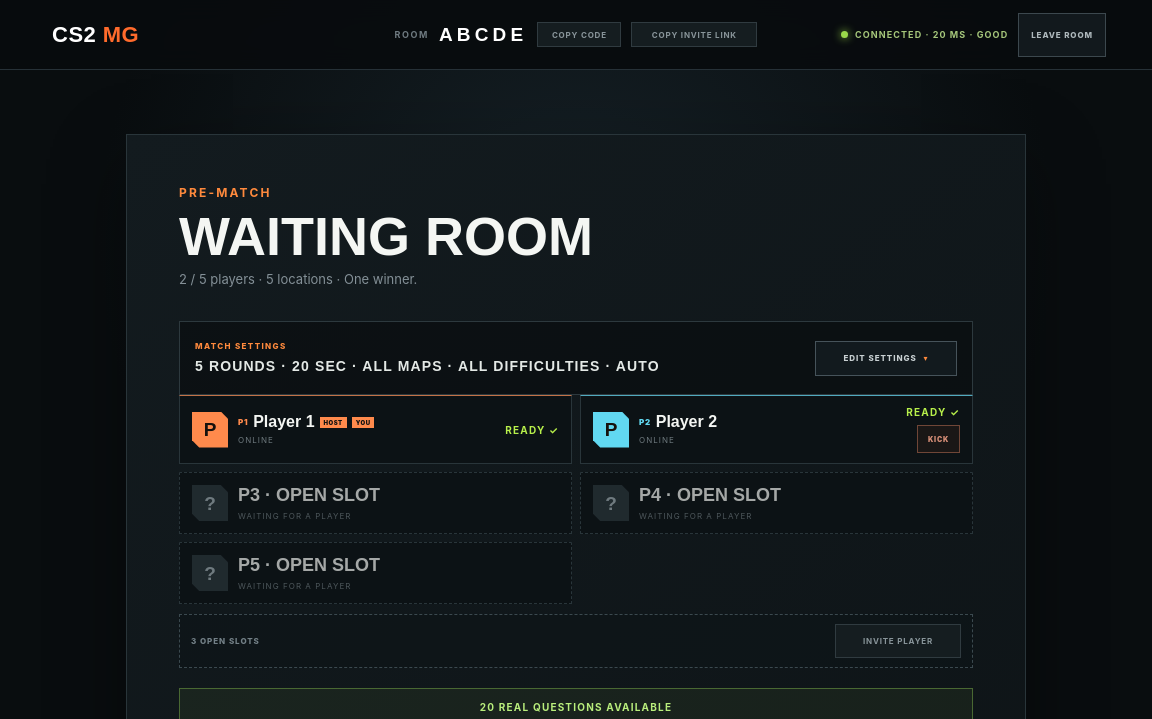
it: RoomPage multiplayer lobby wiring › recovers from an authoritative leave failure without navigating or staying stuck
The image size is (1152, 719).
Click the button "LEAVE ROOM". click: (1062,34)
box: top-left (1018, 12), bottom-right (1106, 56)
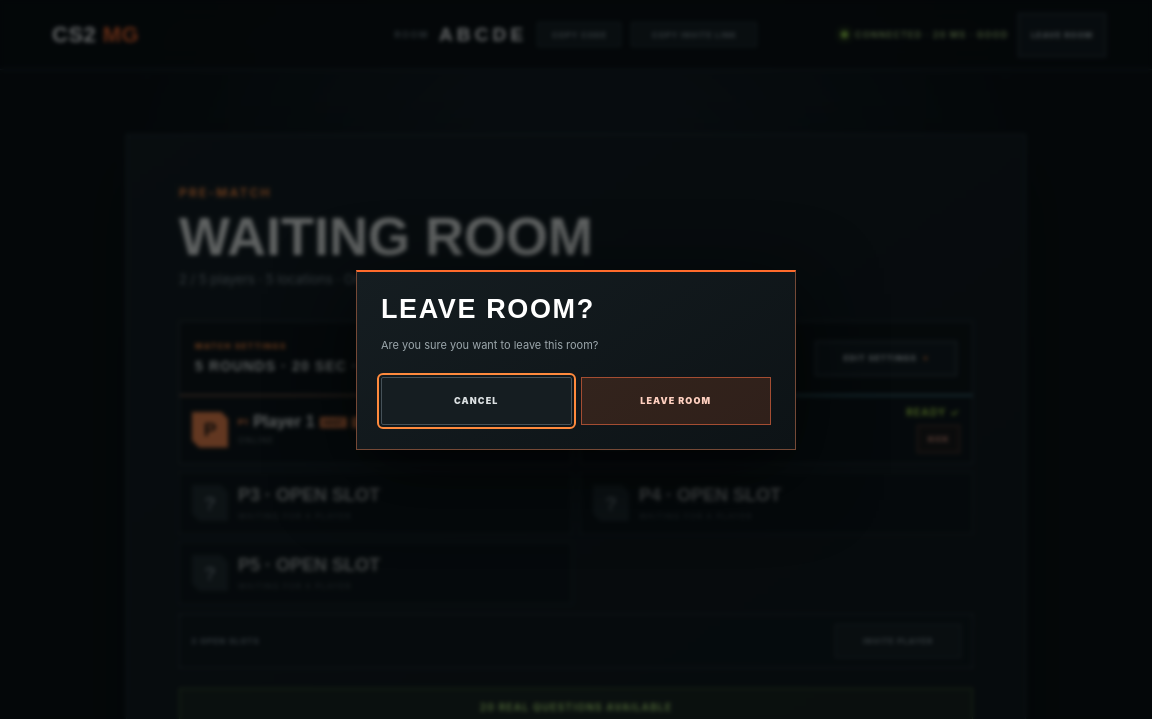
Click the button "LEAVE ROOM". click: (676,401)
box: top-left (580, 377), bottom-right (771, 425)
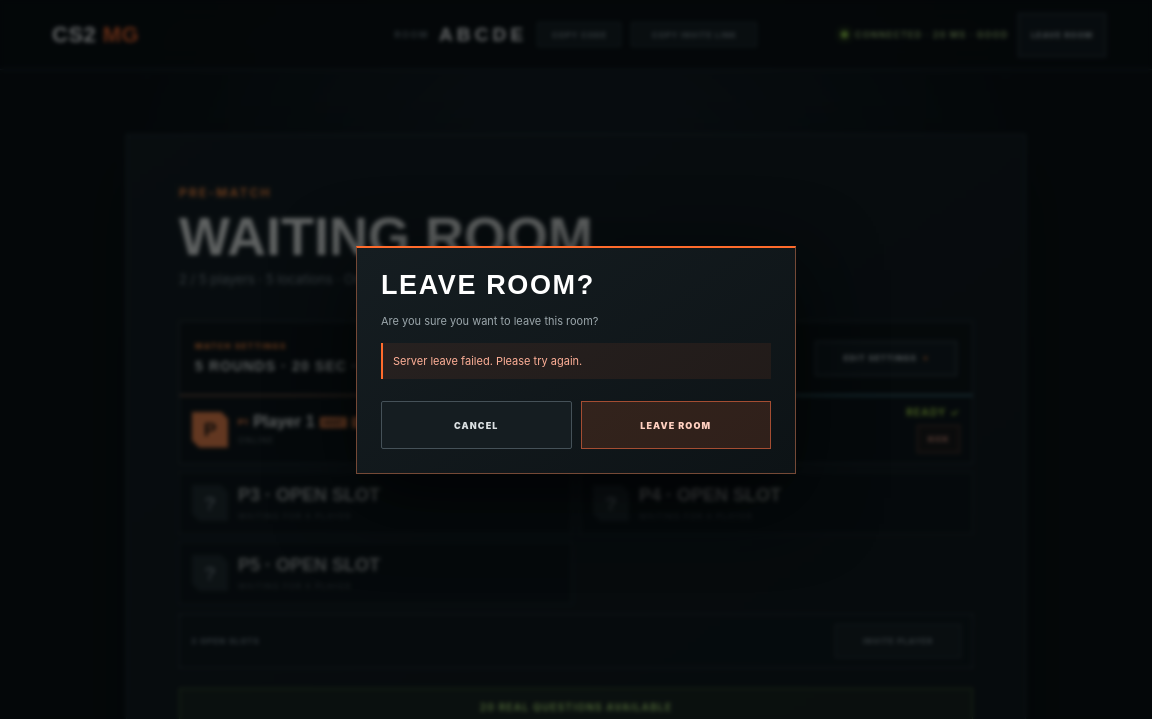
Now the button "LEAVE ROOM" is enabled, box top-left (580, 401), bottom-right (771, 449)
Now the message shows "Please try again", box top-left (393, 354), bottom-right (582, 368)
